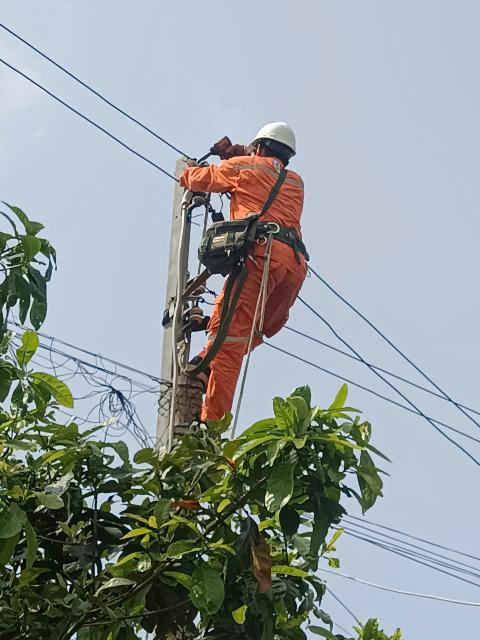gloves: (217, 137, 253, 159)
harness: (209, 213, 329, 257)
helmet: (243, 115, 324, 163)
shoes: (178, 349, 231, 393)
